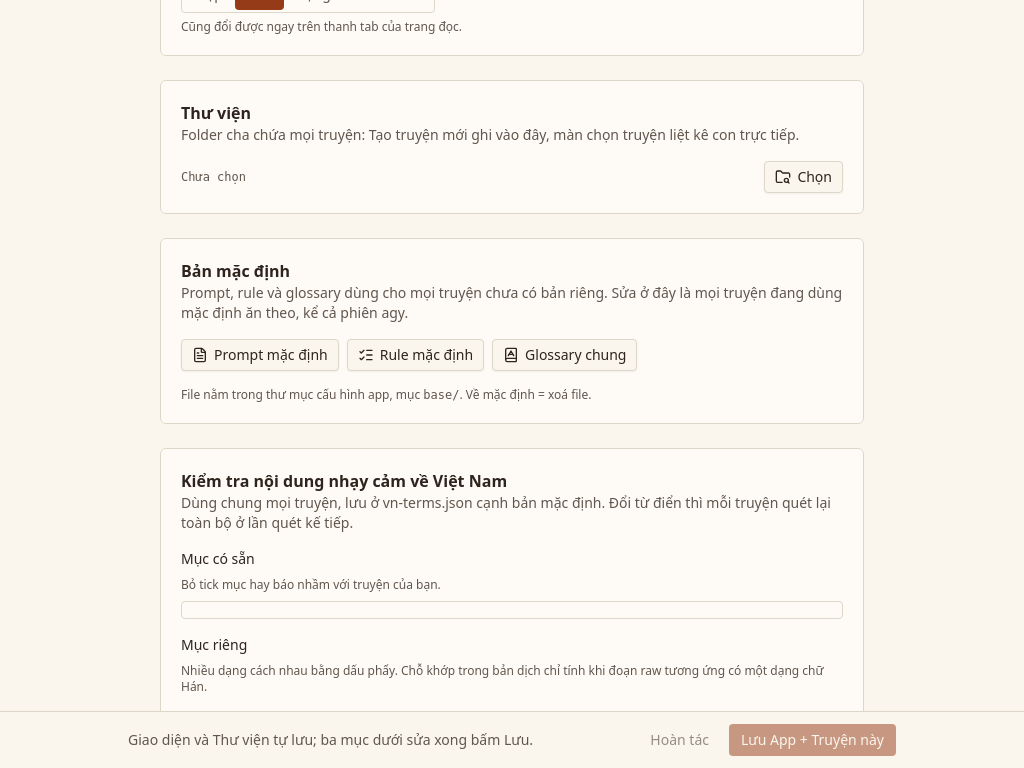
Scenario: SettingsPage · Động cơ dịch › card Bản mặc định có ba nút; bấm Prompt mặc định mở dialog và nạp base
(page scrolled)
Expected: the button "Rule mặc định" is shown, [347,339,484,371]
Expected: the button "Glossary chung" is shown, [492,339,638,371]
Click the button "Prompt mặc định" at {"x": 260, "y": 355}, box [181,339,339,371]
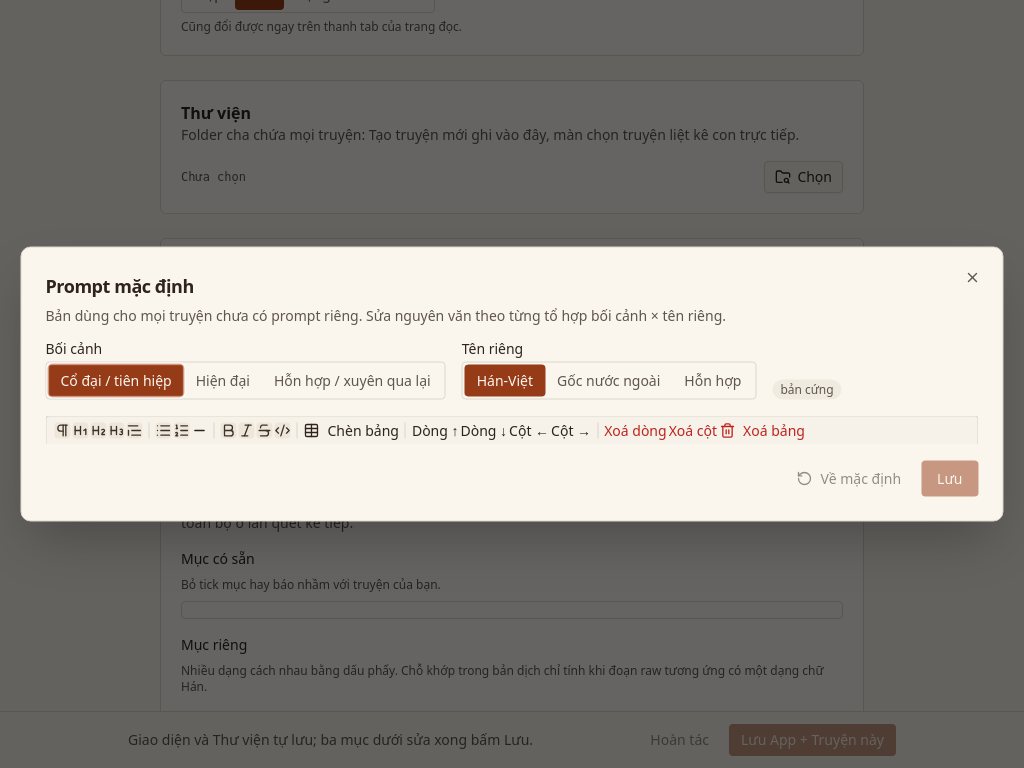
Expected: the dialog "Prompt mặc định" is shown, [20,246,1004,522]
